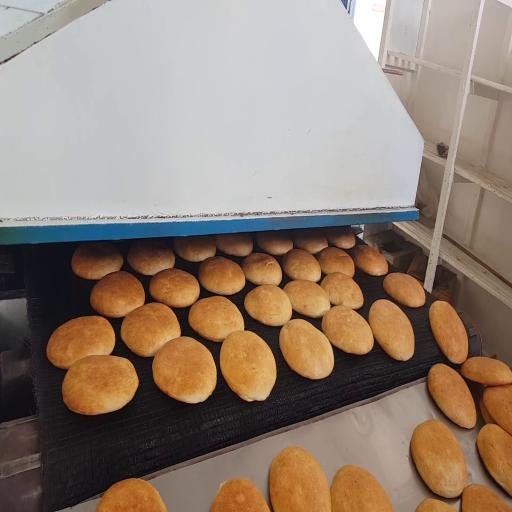bread: (62, 356, 138, 415), (411, 420, 467, 497), (152, 337, 216, 403), (220, 331, 276, 401), (270, 447, 331, 511), (47, 316, 115, 369), (280, 320, 334, 379), (121, 303, 180, 356), (428, 364, 476, 428), (331, 466, 393, 511), (369, 300, 414, 360), (90, 271, 145, 318), (322, 306, 373, 355), (189, 296, 244, 341), (477, 424, 511, 495), (430, 301, 468, 364), (96, 479, 166, 511), (244, 285, 292, 326), (72, 242, 123, 280), (210, 479, 269, 511), (150, 269, 199, 307), (199, 256, 245, 295), (284, 280, 330, 318), (128, 240, 175, 275), (321, 273, 363, 309), (383, 273, 425, 307), (483, 385, 511, 435), (461, 357, 511, 385), (242, 253, 282, 285), (462, 485, 511, 511), (283, 249, 321, 282), (316, 247, 354, 277), (174, 236, 216, 262), (353, 246, 388, 275), (256, 231, 293, 255), (293, 229, 327, 254), (215, 234, 253, 256), (325, 227, 355, 249), (416, 499, 456, 511), (480, 397, 495, 423)
